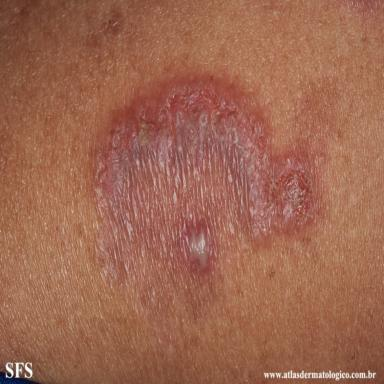Hailey-Hailey-Disease: (86, 72, 323, 318)
